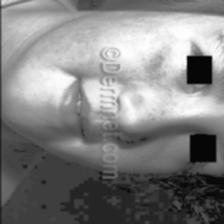Toxin: (75, 20, 151, 44), (135, 40, 163, 84), (132, 136, 166, 170), (150, 88, 168, 120)
